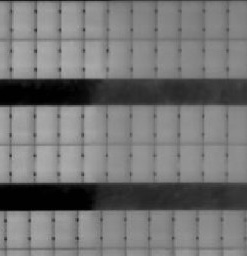solar: (7, 103, 37, 146), (31, 103, 61, 146), (55, 103, 85, 146), (80, 103, 110, 146), (103, 103, 133, 146), (127, 103, 157, 146), (151, 103, 181, 146), (175, 103, 205, 146), (199, 103, 229, 146), (8, 38, 38, 80), (32, 37, 62, 79), (56, 37, 86, 79), (81, 37, 111, 79), (106, 37, 136, 79), (128, 37, 158, 79), (153, 37, 183, 79), (176, 37, 206, 79), (200, 37, 230, 79), (200, 143, 230, 185), (176, 143, 206, 185), (151, 142, 181, 184), (126, 142, 156, 184), (103, 142, 133, 184), (80, 142, 110, 184), (55, 142, 85, 184), (32, 142, 62, 184), (7, 142, 37, 184), (3, 208, 33, 250), (26, 210, 56, 252), (50, 210, 80, 252), (74, 210, 104, 252), (98, 210, 128, 252), (122, 210, 152, 252), (147, 210, 177, 252), (171, 210, 201, 252), (194, 210, 224, 252), (217, 210, 247, 252), (201, 1, 231, 42), (177, 1, 207, 42), (153, 1, 183, 42), (129, 1, 159, 42), (105, 1, 135, 42), (80, 1, 110, 42), (57, 1, 87, 42), (32, 1, 62, 42), (7, 1, 37, 42)
